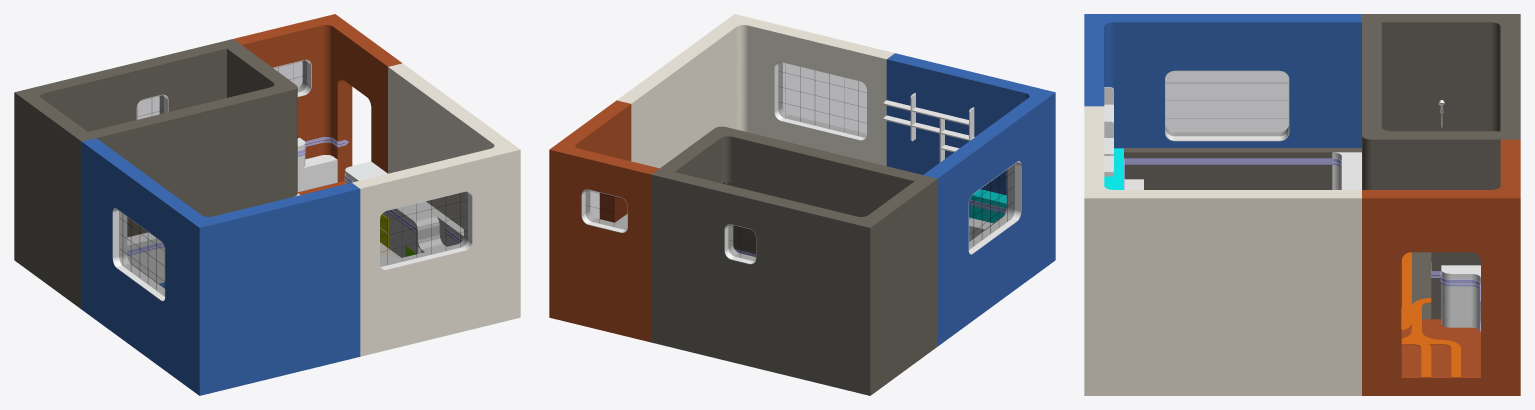
File: vision typeC OptionA.glb
3 renders of one model, left to right at view 1: azimuth 30°, elevation 25°; view 2: azimuth 150°, elevation 25°; view 3: azimuth 270°, elevation 25°, orthographic. The views are drawn at different scales.
Visible parts, largest first — view 1: 卧室墙, 厕所墙, 客厅墙, 厨房墙, 玻璃, 窗框（金属）, 沙发（软包，软垫，皮纹细腻）, 客厅3, 换鞋凳（软）, 衣柜，木制或者整体性强的材质, 触摸板; view 2: 厕所墙, 卧室墙, 客厅墙, 厨房墙, 玻璃, 窗框（金属）, 木板, 床15MM 软包边-皮质; view 3: 客厅墙, 厕所墙, 卧室墙, 厨房墙, 玻璃, 换鞋凳（软）, PATH, 触摸板, 窗框（金属）, 衣柜，木制或者整体性强的材质, 木板, 床15MM 软包边-皮质.
Part boxes in pixels (x1,y1,x2,y2): 卧室墙: (81, 138, 360, 395); 厕所墙: (14, 39, 297, 309); 客厅墙: (352, 63, 520, 356); 厨房墙: (234, 14, 402, 194); 玻璃: (119, 60, 467, 296); 窗框（金属）: (112, 59, 472, 301); 沙发（软包，软垫，皮纹细腻）: (404, 204, 463, 253); 客厅3: (345, 161, 429, 257); 换鞋凳（软）: (297, 138, 337, 191); 衣柜，木制或者整体性强的材质: (127, 193, 300, 283); 触摸板: (127, 137, 462, 255); 厕所墙: (651, 126, 1003, 395); 卧室墙: (886, 53, 1055, 346); 客厅墙: (617, 14, 894, 168); 厨房墙: (549, 100, 659, 342); 玻璃: (586, 62, 1014, 260); 窗框（金属）: (581, 61, 1021, 264); 木板: (883, 93, 974, 162); 床15MM 软包边-皮质: (969, 189, 1006, 223); 客厅墙: (1084, 106, 1361, 395); 厕所墙: (1124, 14, 1520, 319); 卧室墙: (1084, 14, 1361, 148); 厨房墙: (1362, 139, 1520, 395); 玻璃: (1166, 71, 1288, 135); 换鞋凳（软）: (1441, 265, 1480, 329); PATH: (1401, 252, 1460, 377); 触摸板: (1124, 158, 1480, 332); 窗框（金属）: (1165, 70, 1289, 141); 衣柜，木制或者整体性强的材质: (1332, 152, 1361, 189); 木板: (1104, 87, 1113, 176); 床15MM 软包边-皮质: (1104, 148, 1123, 189).
Bounding box in the file's own units: 6.6 × 3.3 × 6.6.
